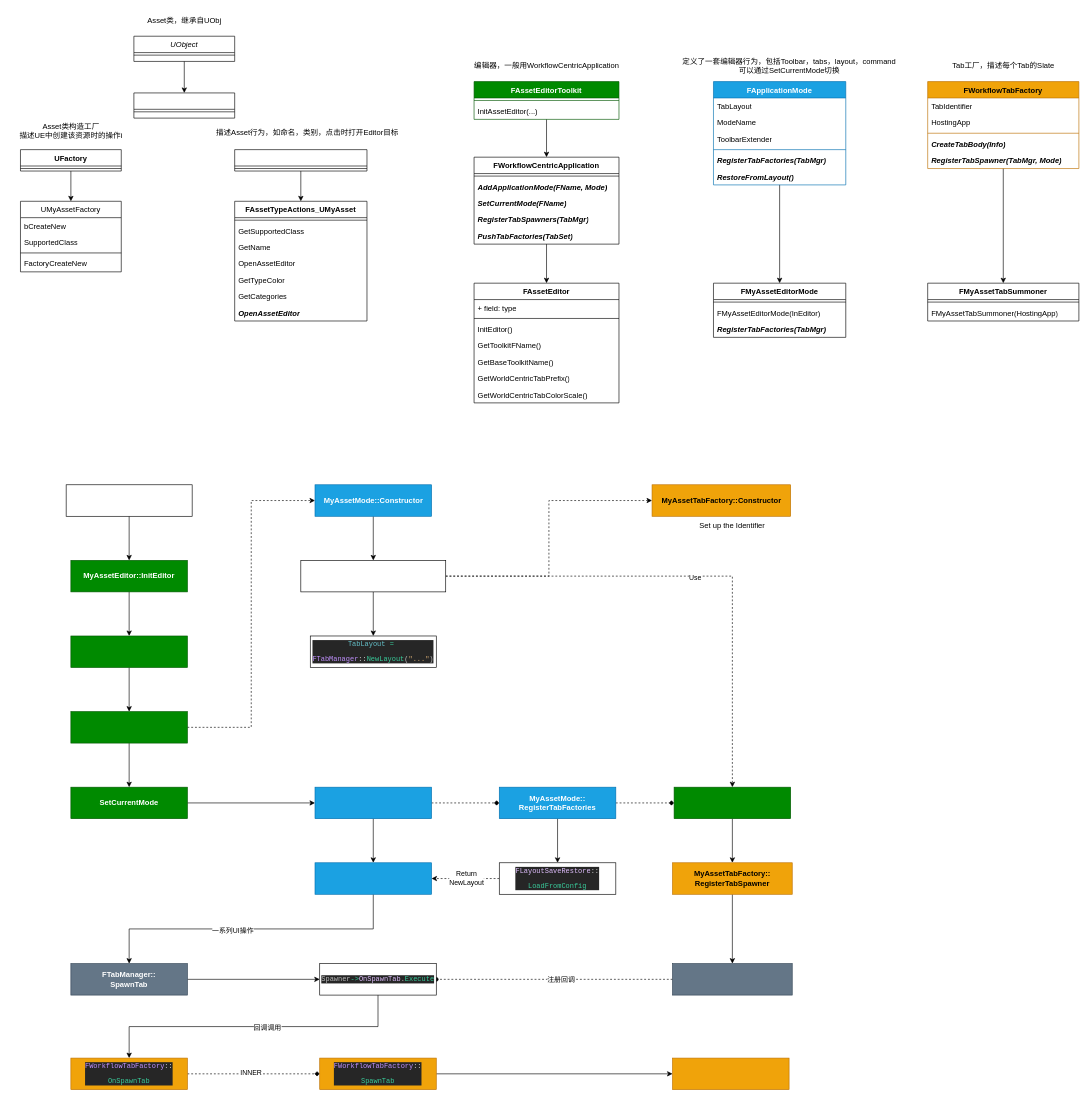
The diagram is 1090 pixels wide and 1103 high, and some of its shapes have lost their labels. The centre of each missing label's shape, as x and y in pixels:
"AddApplicationMode" goes at [128,727].
"FAssetTypeActions_Base" goes at [300,160].
"FAssetTypeActions_UMyAsset:: OpenAssetEditor" goes at [129,500].
"FWorkflowTabFactory :: CreateTabBody" goes at [730,1073].
"MyAssetEditor :: PushTabFactories" goes at [732,803].
"MyAssetMode:: ActivateMode" goes at [373,803].
"MyAssetMode:: RestoreFromLayout" goes at [373,878].
"Register tab factory FWorkflowAllowedTabSet:: RegisterFactory" goes at [373,576].
"Super::InitAssetEditor" goes at [128,651].
"TabManager:: RegisterTabSpawner" goes at [732,979].
"UMyAsset" goes at [184,105].
